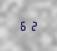six: (19, 19, 27, 30)
two: (28, 19, 36, 31)
